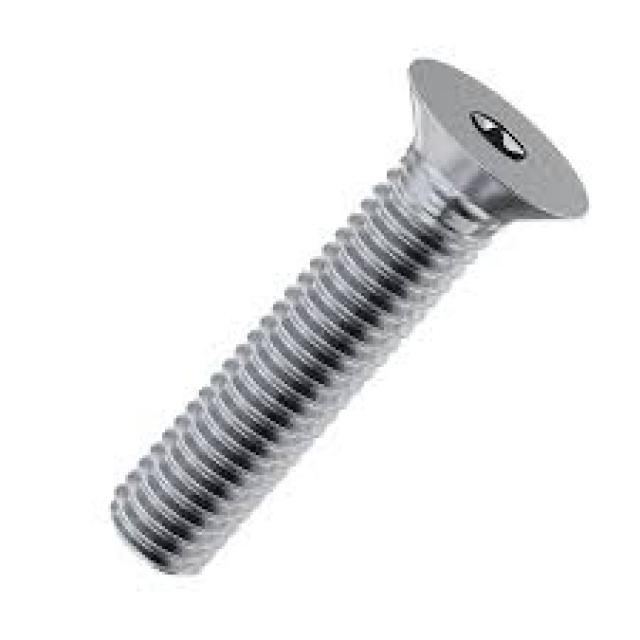Screw: (111, 60, 589, 580)
